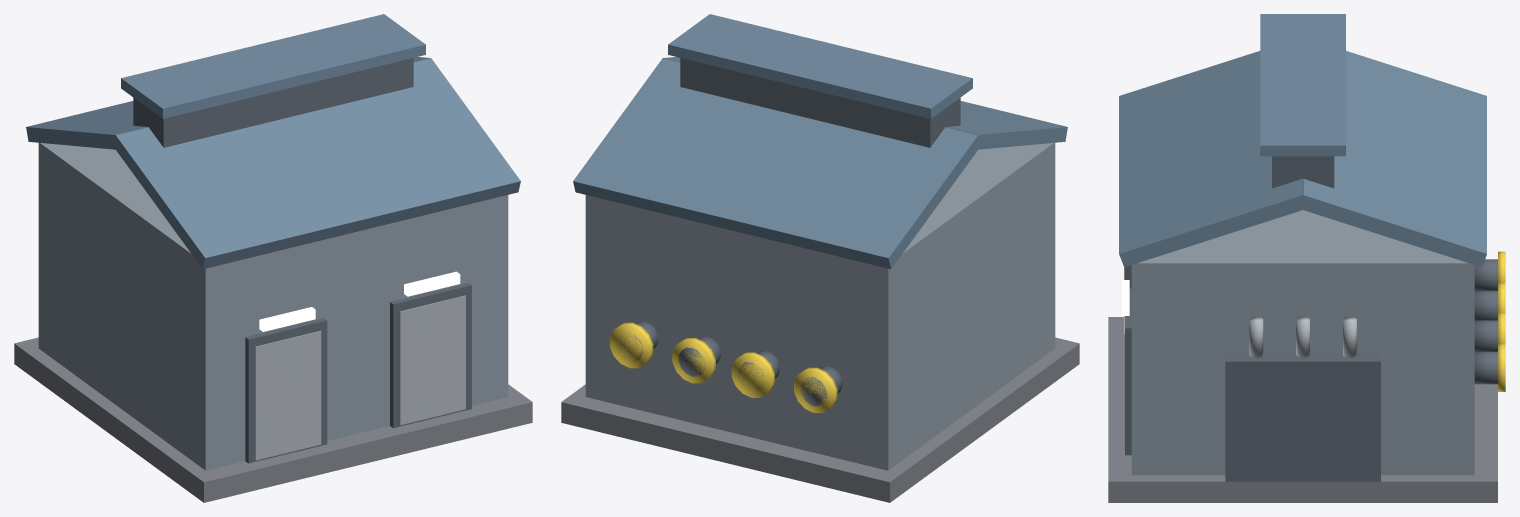
Rendered from pump_house.glb.
3 renders of one model, left to right at view 1: azimuth 30°, elevation 25°; view 2: azimuth 150°, elevation 25°; view 3: azimuth 270°, elevation 25°, orthographic. The views are drawn at different scales.
Visible parts, largest first — view 1: PumpWalls, RoofSlopeL, PumpFoundation, RidgeCap, RidgeMonitor, PumpBayDoor_-0.22, PumpBayDoor_0.22, RoofSlopeR, PumpBayFrame_-0.22, PumpBayFrame_0.22, PumpLamp_0.22, PumpLamp_-0.22; view 2: PumpWalls, RoofSlopeR, PumpFoundation, RidgeCap, RidgeMonitor, RoofSlopeL, PumpFlange_0.28, PumpFlange_-0.09, PumpFlange_-0.28, PumpFlange_0.09, PumpStub_-0.28, PumpStub_0.09; view 3: PumpWalls, RoofSlopeL, RoofSlopeR, TransformerBox, PumpFoundation, RidgeCap, RidgeMonitor, PumpBayFrame_0.22, PumpStub_0.28, PumpStub_0.09, PumpStub_-0.09, PumpStub_-0.28 (+3 smaller).
Boxes of the visible parts, x1,y1,x2,y2 form: PumpWalls: (38,142,508,470); RoofSlopeL: (113,58,520,269); PumpFoundation: (14,337,532,502); RidgeCap: (121,14,425,118); RidgeMonitor: (133,58,413,147); PumpBayDoor_-0.22: (255,330,321,460); PumpBayDoor_0.22: (399,295,465,425); RoofSlopeR: (26,57,430,149); PumpBayFrame_-0.22: (245,318,327,463); PumpBayFrame_0.22: (390,283,471,428); PumpLamp_0.22: (404,271,460,296); PumpLamp_-0.22: (259,307,315,331); PumpWalls: (585,142,1055,470); RoofSlopeR: (573,58,978,269); PumpFoundation: (561,337,1079,502); RidgeCap: (668,14,972,118); RidgeMonitor: (680,58,960,147); RoofSlopeL: (663,57,1067,149); PumpFlange_0.28: (610,322,653,368); PumpFlange_-0.09: (731,352,774,397); PumpFlange_-0.28: (794,367,837,412); PumpFlange_0.09: (672,338,715,383); PumpStub_-0.28: (800,366,842,406); PumpStub_0.09: (678,336,720,376); PumpWalls: (1131,210,1474,475); RoofSlopeL: (1119,51,1307,267); RoofSlopeR: (1299,51,1486,267); TransformerBox: (1225,351,1380,481); PumpFoundation: (1108,317,1497,502); RidgeCap: (1260,14,1345,156); RidgeMonitor: (1272,156,1334,188); PumpBayFrame_0.22: (1125,288,1131,455); PumpStub_0.28: (1474,351,1497,384); PumpStub_0.09: (1474,320,1497,351); PumpStub_-0.09: (1474,290,1497,320); PumpStub_-0.28: (1474,259,1497,290).
Size of the model in its own units: 1.02 by 0.965 by 1.02.
